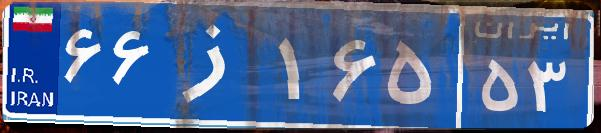1: (273, 28, 330, 110)
3: (525, 38, 570, 115)
5: (385, 28, 445, 110), (475, 38, 525, 113)
6: (330, 28, 385, 110), (57, 26, 110, 107), (110, 28, 158, 105)
ز: (158, 15, 273, 115)
